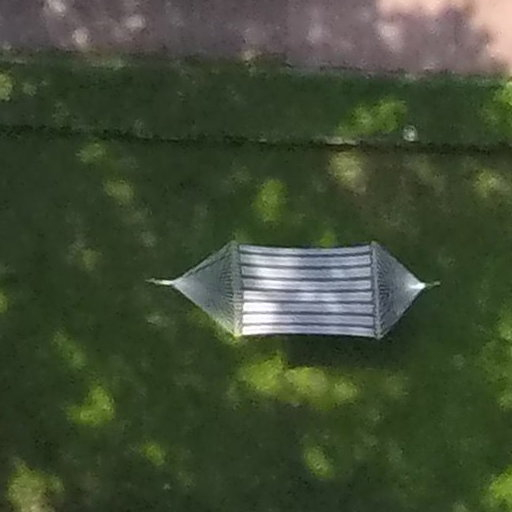container: (400, 121, 423, 143)
